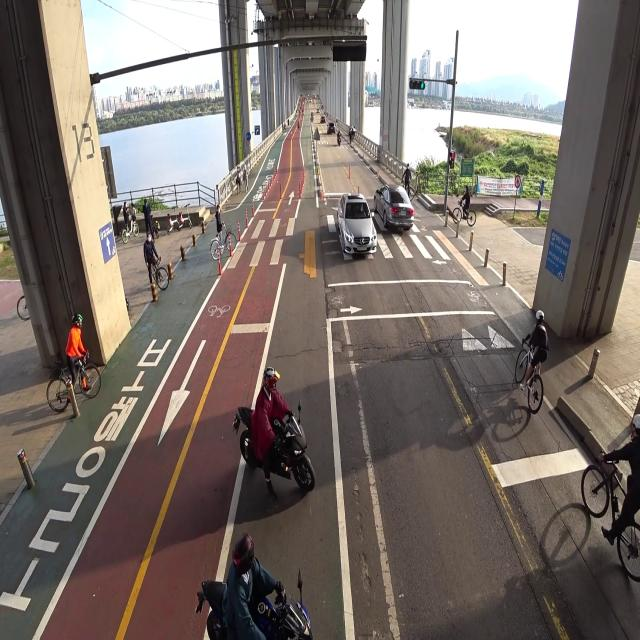Car: (328, 183, 378, 272), (373, 173, 415, 232), (327, 118, 337, 139), (321, 114, 327, 126)
Motorcycle: (197, 525, 331, 640), (232, 365, 314, 500), (337, 128, 342, 149)
